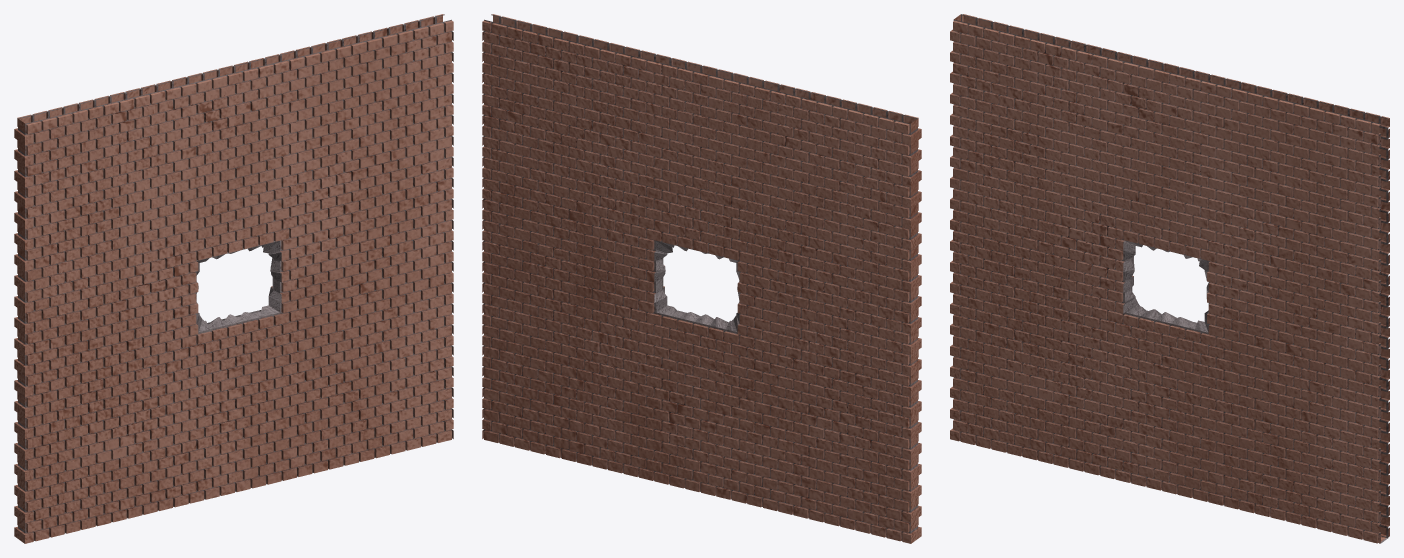
File: wall_hole.fbx
3 renders of one model, left to right at view 1: azimuth 30°, elevation 25°; view 2: azimuth 150°, elevation 25°; view 3: azimuth 330°, elevation 25°, orthographic.
Parts seen in each view (by area): view 1: Cube.002; view 2: Cube.002; view 3: Cube.002.
Part boxes in pixels (x1,y1,x2,y2): Cube.002: [14, 14, 453, 543]; Cube.002: [482, 14, 921, 543]; Cube.002: [950, 14, 1389, 543].
Bounding box in the file's own units: 2468 × 2307 × 106.
